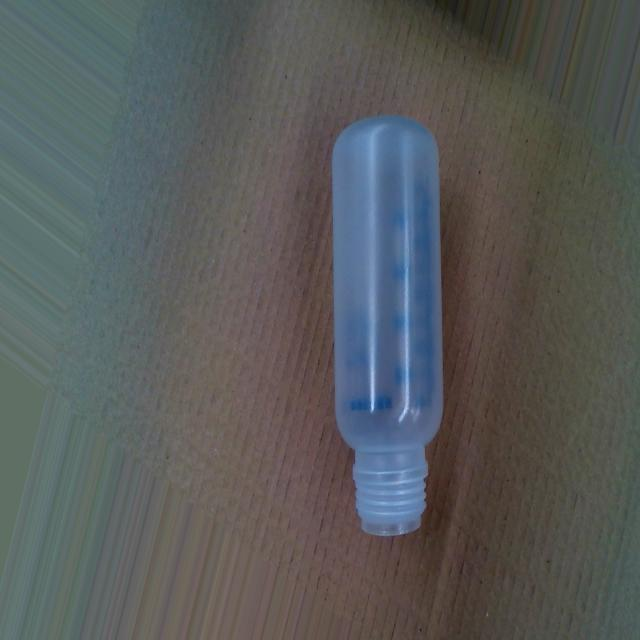bottle: (330, 113, 446, 539)
